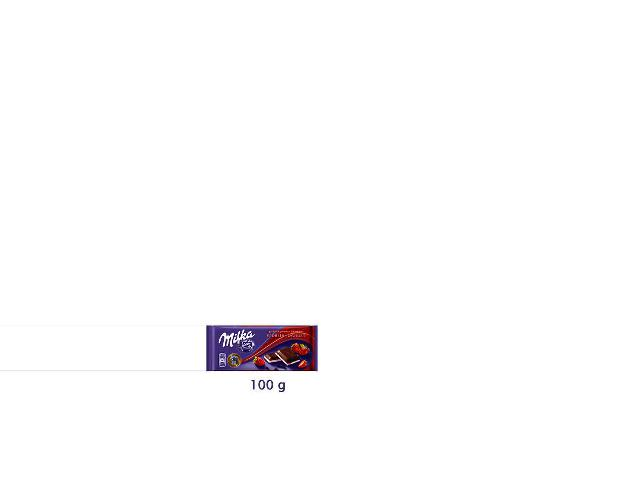chocolate: (206, 325, 318, 376)
